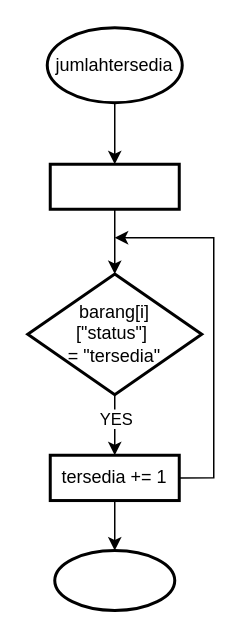
Image size: 252x638. Some labels were removed from this diagram. The shapes that lost their labels are listed below. From the top down, each one's centre as x and y in pixels, then its label:
point 114,186: tersedia = 0
point 114,579: end
